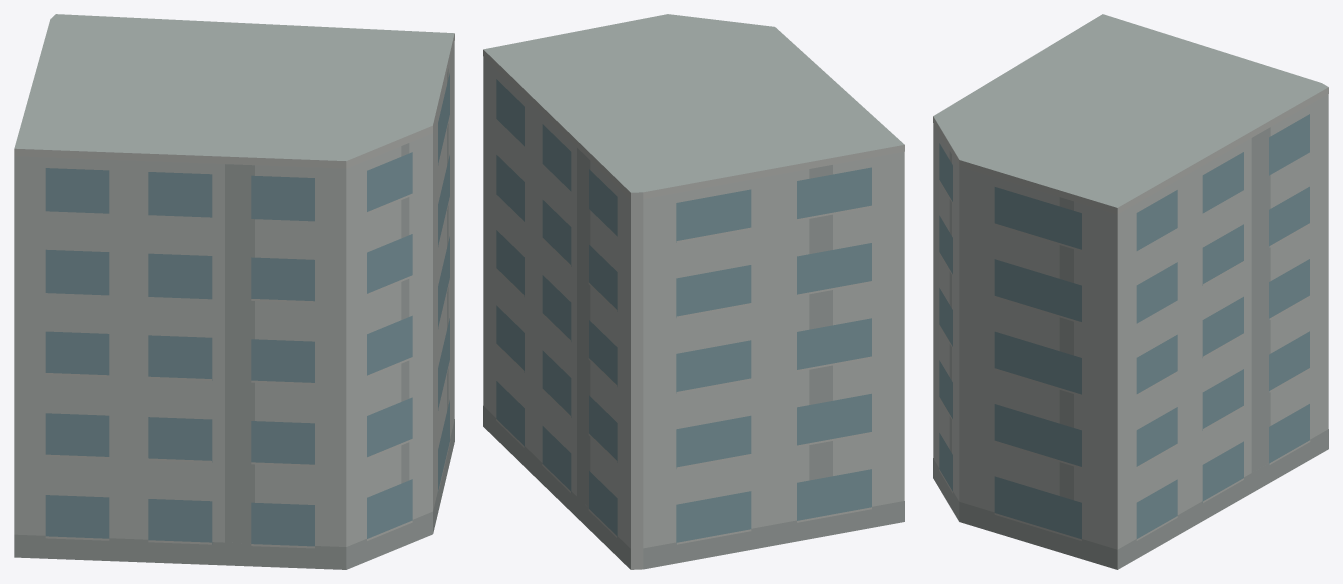
The model's file is survey-upis-32884220.glb.
The picture shows the model from 3 angles, left to right: view 1: azimuth 30°, elevation 25°; view 2: azimuth 150°, elevation 25°; view 3: azimuth 270°, elevation 25°; orthographic projection. The views are drawn at different scales.
Visible parts, largest first — view 1: survey-upis-32884220.tmp; view 2: survey-upis-32884220.tmp; view 3: survey-upis-32884220.tmp.
Boxes of the visible parts, x1,y1,x2,y2 form: survey-upis-32884220.tmp: (14, 14, 454, 569); survey-upis-32884220.tmp: (483, 14, 904, 569); survey-upis-32884220.tmp: (933, 14, 1328, 569).
Size of the model in its own units: 15.17 by 13.2 by 13.08.
